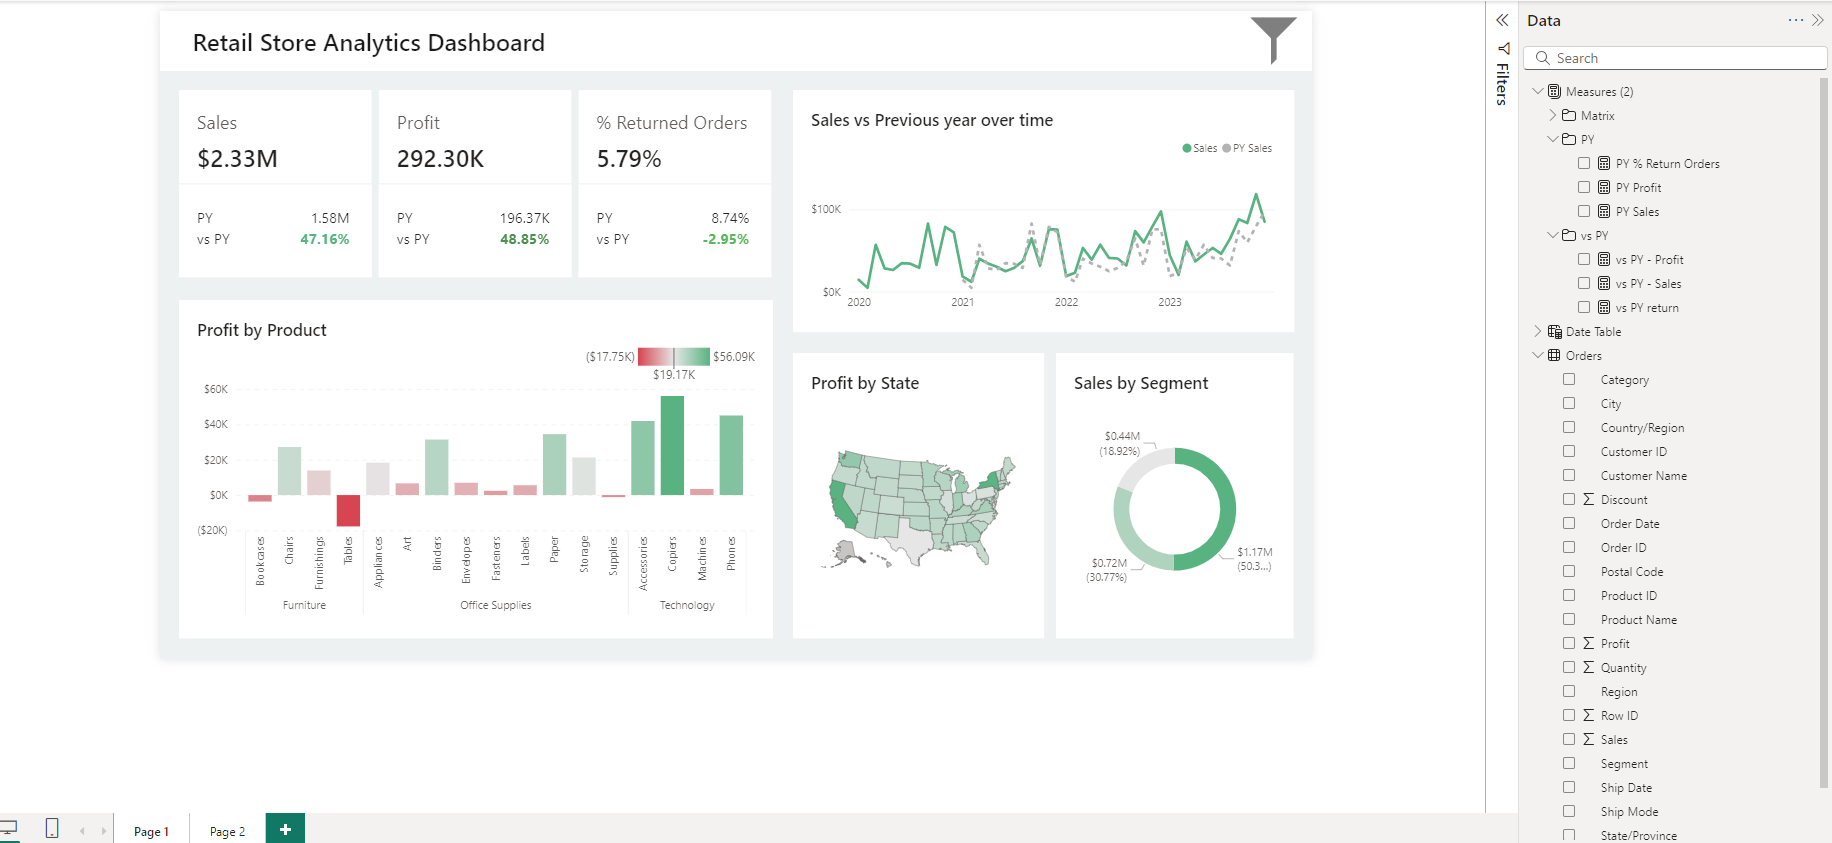

Layout of this report page (visuals, bound fields, positions):
{"tool":"powerbi","page":{"name":"Page 1","canvas":[1280,720],"ordinal":0},"visuals":[{"type":"shape","box":[0,0,1280,66.7],"z":0},{"type":"cardVisual","fields":{"Data":["Measures (2).Sales","Measures (2).Profit","Measures (2).% of Returned Orders"]},"box":[21,88,660,213],"z":1000},{"type":"image","title":"Filter","box":[1195.6,0,84.4,66.7],"z":2000},{"type":"lineChart","title":"Sales vs Previous year over time","fields":{"Category":["Date Table.Start date of month"],"Y":["Measures (2).Sales","Measures (2).PY Sales"]},"box":[703,88,557,269],"z":3000},{"type":"clusteredColumnChart","title":"Profit by Product","fields":{"Category":["Orders.Category","Orders.Sub-Category"],"Y":["Measures (2).Profit"]},"box":[21,321,660,376],"z":4000},{"type":"shapeMap","title":"Profit by State","fields":{"Value":["Measures (2).Profit"],"Category":["Orders.State/Province"]},"box":[703,380,279,317],"z":5000},{"type":"donutChart","title":"Sales by Segment","fields":{"Category":["Orders.Segment"],"Y":["Measures (2).Sales"]},"box":[996,380,264,317],"z":6000}]}

Visuals, with their boxes on the page's 1280x720 design canvas (x1, y1, x2, y2). These are canvas units, not pixel positions in the 1832x843 screenshot, which may show the page scaled, cropped or inside an application window:
shape: 0/0/1280/67
cardVisual - Measures (2).Sales x Measures (2).Profit: 21/88/681/301
"Filter" image: 1196/0/1280/67
"Sales vs Previous year over time" lineChart: 703/88/1260/357
"Profit by Product" clusteredColumnChart: 21/321/681/697
"Profit by State" shapeMap: 703/380/982/697
"Sales by Segment" donutChart: 996/380/1260/697
